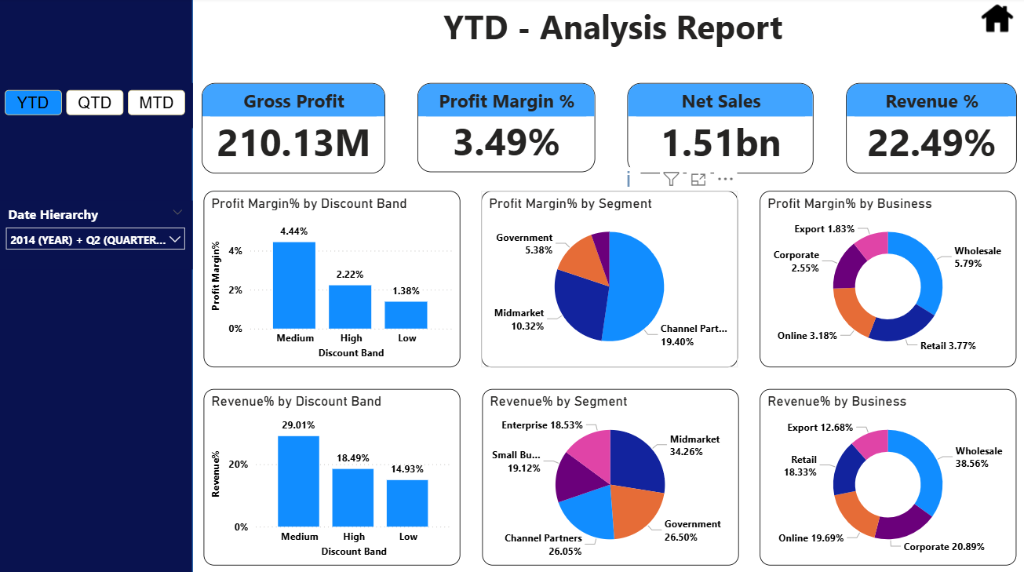

The dashboard page shown, as its layout file describes it:
{"tool":"powerbi","page":{"name":"Summary","canvas":[1280,720],"ordinal":1},"visuals":[{"type":"shape","box":[0,0,243.3,720.2],"z":0},{"type":"card","title":"Revenue %","fields":{"Values":["_Measures.Rev%"]},"box":[1057.8,106.2,212.8,112.5],"z":1000},{"type":"card","title":"Gross Profit","fields":{"Values":["_Measures.Gross Profit"]},"box":[254.3,106.2,228.7,112.5],"z":2000},{"type":"ChicletSlicer1448559807354","fields":{"Category":["Period.Period Type"]},"box":[0,106.4,243.3,56.3],"z":3000},{"type":"card","title":"Profit Margin %","fields":{"Values":["select","select1","_Measures.Profit Margin%"]},"box":[523.4,106.8,221.3,111.3],"z":4000},{"type":"card","title":"Net Sales","fields":{"Values":["_Measures.Net Sales"]},"box":[785.1,106.2,232.3,112.5],"z":5000},{"type":"actionButton","box":[1211.8,0,68.5,51.4],"z":6000},{"type":"columnChart","fields":{"Category":["Fact-Finance.Discount Band"],"Y":["_Measures.Profit Margin%"]},"box":[256.8,240.9,320,220.1],"z":7000},{"type":"columnChart","fields":{"Category":["Fact-Finance.Discount Band"],"Y":["_Measures.Rev%"]},"box":[256.8,487.9,320,220],"z":8000},{"type":"pieChart","fields":{"Category":["Fact-Finance.Segment"],"Y":["_Measures.Profit Margin%"]},"box":[603.3,240.9,320.4,220.1],"z":9000},{"type":"donutChart","fields":{"Category":["Fact-Finance.Business"],"Y":["_Measures.Profit Margin%"]},"box":[950.1,240.9,320.4,220.1],"z":10000},{"type":"pieChart","title":"Revenue% by Segment","fields":{"Category":["Fact-Finance.Segment"],"Y":["_Measures.Rev%"]},"box":[603.5,487.9,320,220],"z":11000},{"type":"donutChart","title":"Revenue% by Business","fields":{"Category":["Fact-Finance.Business"],"Y":["_Measures.Rev%"]},"box":[950.1,487.9,320.4,220],"z":12000},{"type":"slicer","fields":{"Values":["Dim_Date.YEAR","Dim_Date.QUARTER","Dim_Date.MONTH NAME"]},"box":[0,253.1,243.3,85.6],"z":13000},{"type":"card","fields":{"Values":["DateTable.Report Heading"]},"box":[407.2,0,709.2,70.9],"z":14000}]}

Visuals, with their boxes in screenshot pixels (x1, y1, x2, y2), scaled from the page's 1280x720 canvas onto the 1024x572 screenshot:
shape: l=0, t=0, r=195, b=571
"Revenue %" card: l=846, t=84, r=1016, b=174
"Gross Profit" card: l=203, t=84, r=386, b=174
ChicletSlicer1448559807354 - Period.Period Type: l=0, t=85, r=195, b=129
"Profit Margin %" card: l=419, t=85, r=596, b=173
"Net Sales" card: l=628, t=84, r=814, b=174
actionButton: l=969, t=0, r=1023, b=41
columnChart - Fact-Finance.Discount Band x _Measures.Profit Margin%: l=205, t=191, r=461, b=366
columnChart - Fact-Finance.Discount Band x _Measures.Rev%: l=205, t=388, r=461, b=562
pieChart - Fact-Finance.Segment x _Measures.Profit Margin%: l=483, t=191, r=739, b=366
donutChart - Fact-Finance.Business x _Measures.Profit Margin%: l=760, t=191, r=1016, b=366
"Revenue% by Segment" pieChart: l=483, t=388, r=739, b=562
"Revenue% by Business" donutChart: l=760, t=388, r=1016, b=562
slicer - Dim_Date.YEAR x Dim_Date.QUARTER: l=0, t=201, r=195, b=269
card - DateTable.Report Heading: l=326, t=0, r=893, b=56
